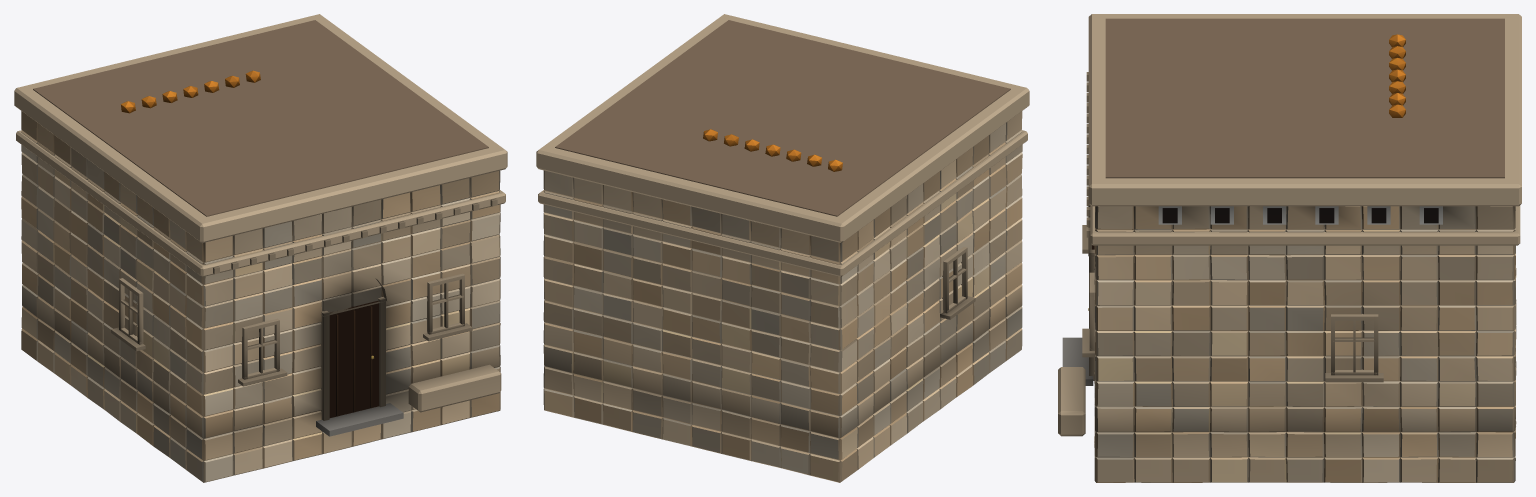
File: house_tuff_1.glb
3 views of the same model, side by side, from view 1: azimuth 30°, elevation 25°; view 2: azimuth 150°, elevation 25°; view 3: azimuth 270°, elevation 25° (orthographic). The views are drawn at different scales.
Parts seen in each view (by area): view 1: box; view 2: box; view 3: box.
Boxes of the visible parts, box(x1,y1,x2,y2) form: box: box(14, 14, 507, 482); box: box(536, 14, 1029, 482); box: box(1058, 14, 1521, 482).
Bounding box in the file's own units: 6.86 × 5.63 × 7.55.
